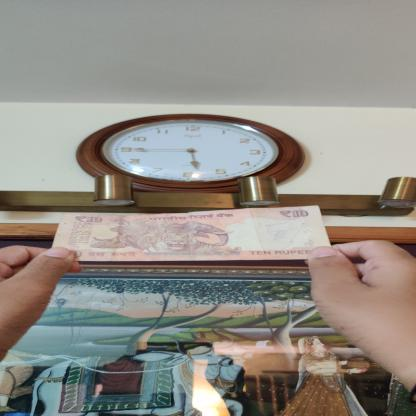Old10Back: (52, 205, 336, 262)
